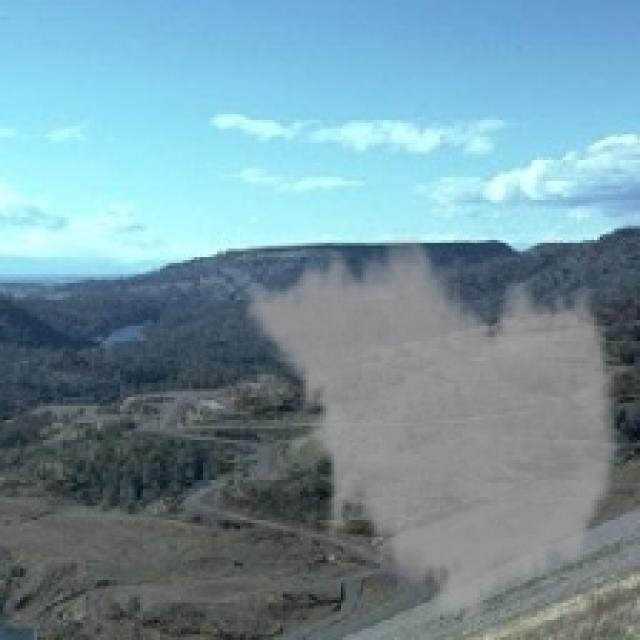smoke: (243, 223, 626, 631)
